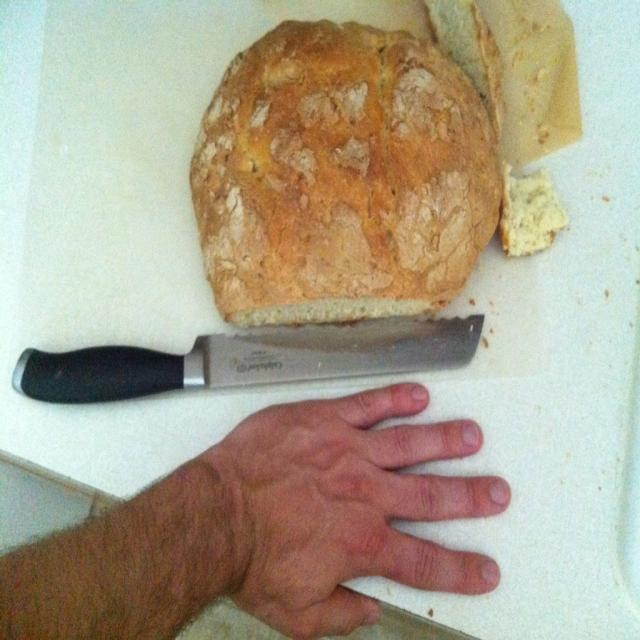Bread: (178, 4, 498, 350), (429, 0, 499, 132), (504, 164, 569, 254)
